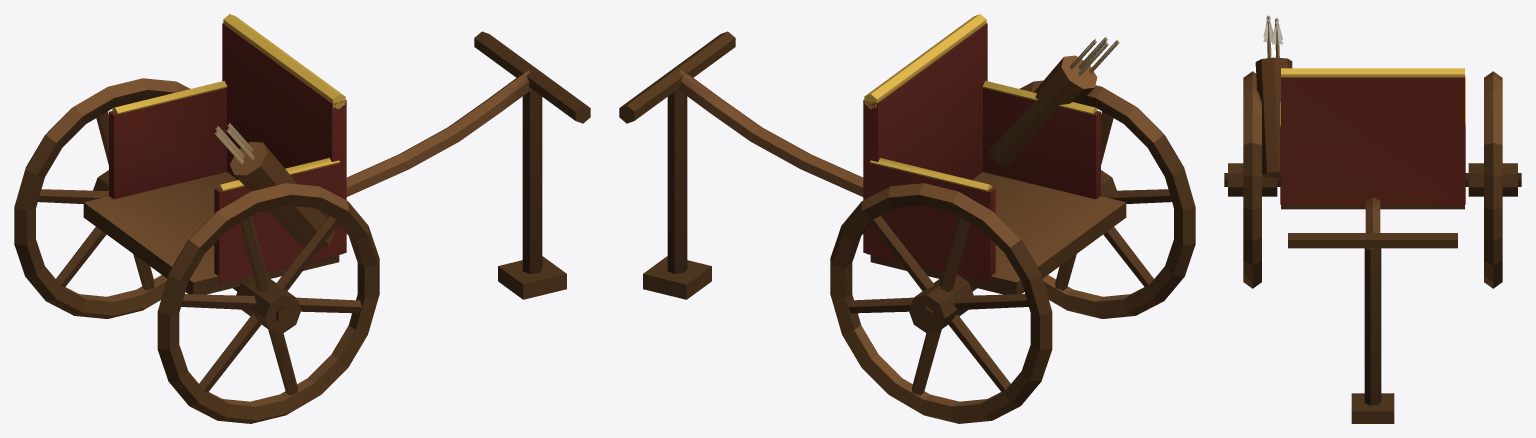
The picture shows the model from 3 angles, left to right: view 1: azimuth 30°, elevation 25°; view 2: azimuth 150°, elevation 25°; view 3: azimuth 270°, elevation 25°; orthographic projection. The views are drawn at different scales.
Parts seen in each view (by area): view 1: base; view 2: base; view 3: base.
Boxes of the visible parts, x1,y1,x2,y2 form: base: [14, 14, 590, 423]; base: [619, 14, 1195, 423]; base: [1224, 14, 1521, 423].
Size of the model in its own units: 0.6421 by 0.3837 by 0.42.
